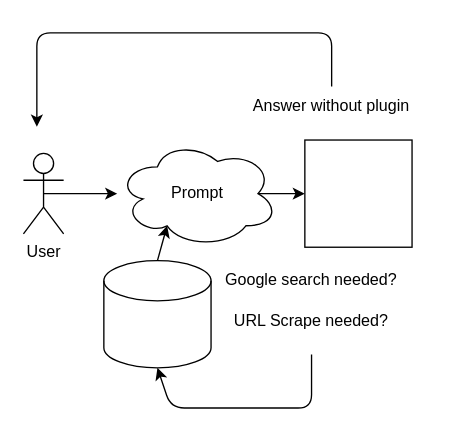
Image size: 449x442. Some labels were removed from this diagram. Each missing label, with the box of its shape:
Plugin result: (103, 259, 211, 368)
Plugin System: (304, 139, 412, 247)
